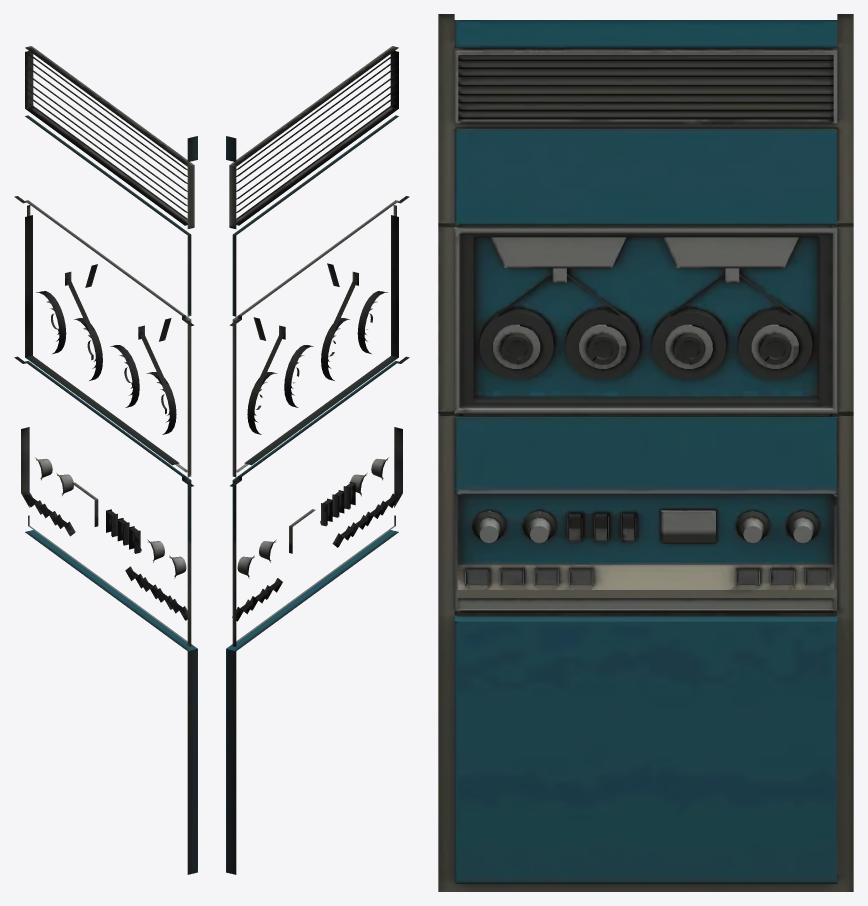
3 views of the same model, side by side, from view 1: azimuth 30°, elevation 25°; view 2: azimuth 150°, elevation 25°; view 3: azimuth 270°, elevation 25° (orthographic). The views are drawn at different scales.
Visible parts, largest first — view 1: body0_model0_lod0_mesh0; view 2: body0_model0_lod0_mesh0; view 3: body0_model0_lod0_mesh0.
Boxes of the visible parts, x1,y1,x2,y2 form: body0_model0_lod0_mesh0: (14,46,197,874); body0_model0_lod0_mesh0: (226,46,409,874); body0_model0_lod0_mesh0: (438,14,853,891).
Size of the model in its own units: 2.79 by 112 by 47.99.
Materials: 1 (1 with a texture image).
